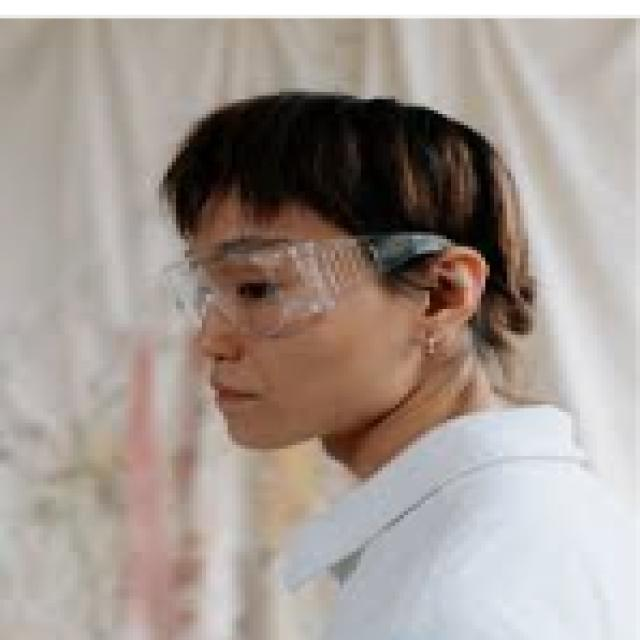glasses: (148, 222, 495, 330)
